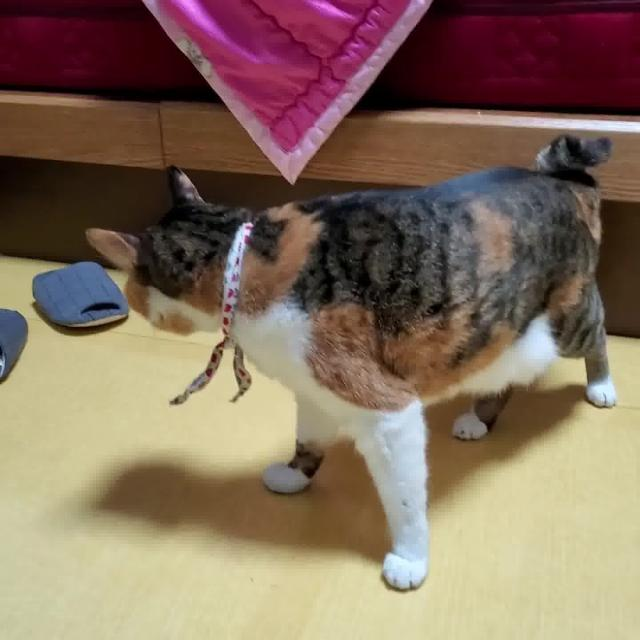cat: (84, 125, 619, 592)
